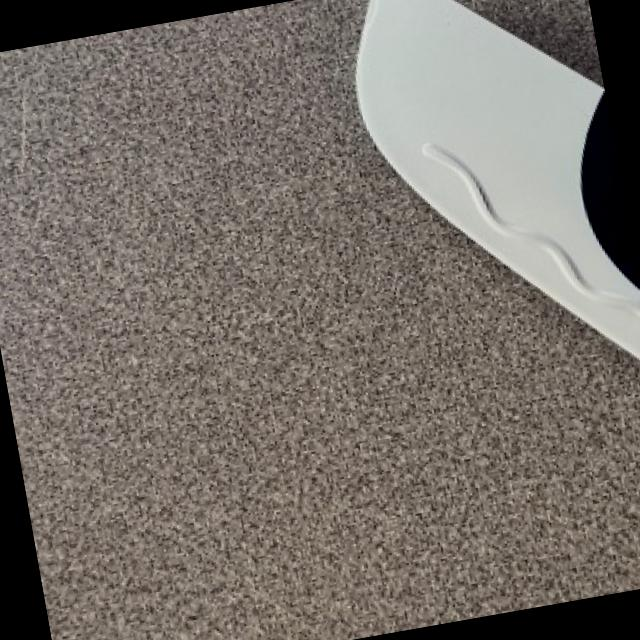healthy: (356, 0, 640, 354)
